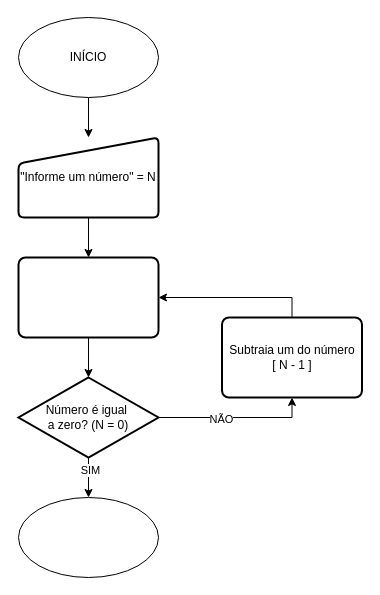
Image size: 380x595. Some labels were removed from this diagram. Here are the shapes that lost their labels. From the top down, the centre of each, then its label:
the point at 88,297: Exiba o número
the point at 88,537: TÉRMINO
